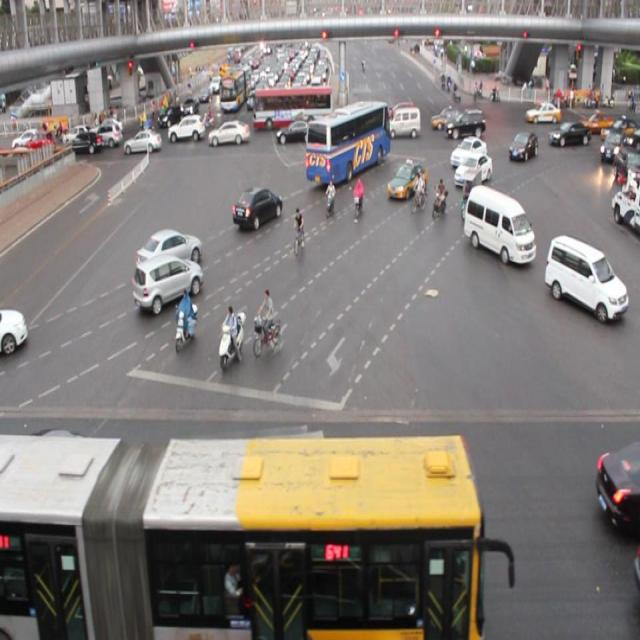car: (1, 426, 126, 534), (594, 435, 640, 529), (133, 255, 202, 309), (137, 227, 202, 271), (232, 185, 284, 230), (1, 301, 28, 359), (387, 162, 424, 198), (452, 154, 491, 184), (448, 132, 483, 164), (549, 118, 589, 146), (207, 120, 249, 144), (507, 132, 536, 164)
truck: (542, 228, 626, 324), (462, 183, 534, 266)
van: (0, 432, 481, 640), (306, 99, 392, 189)
